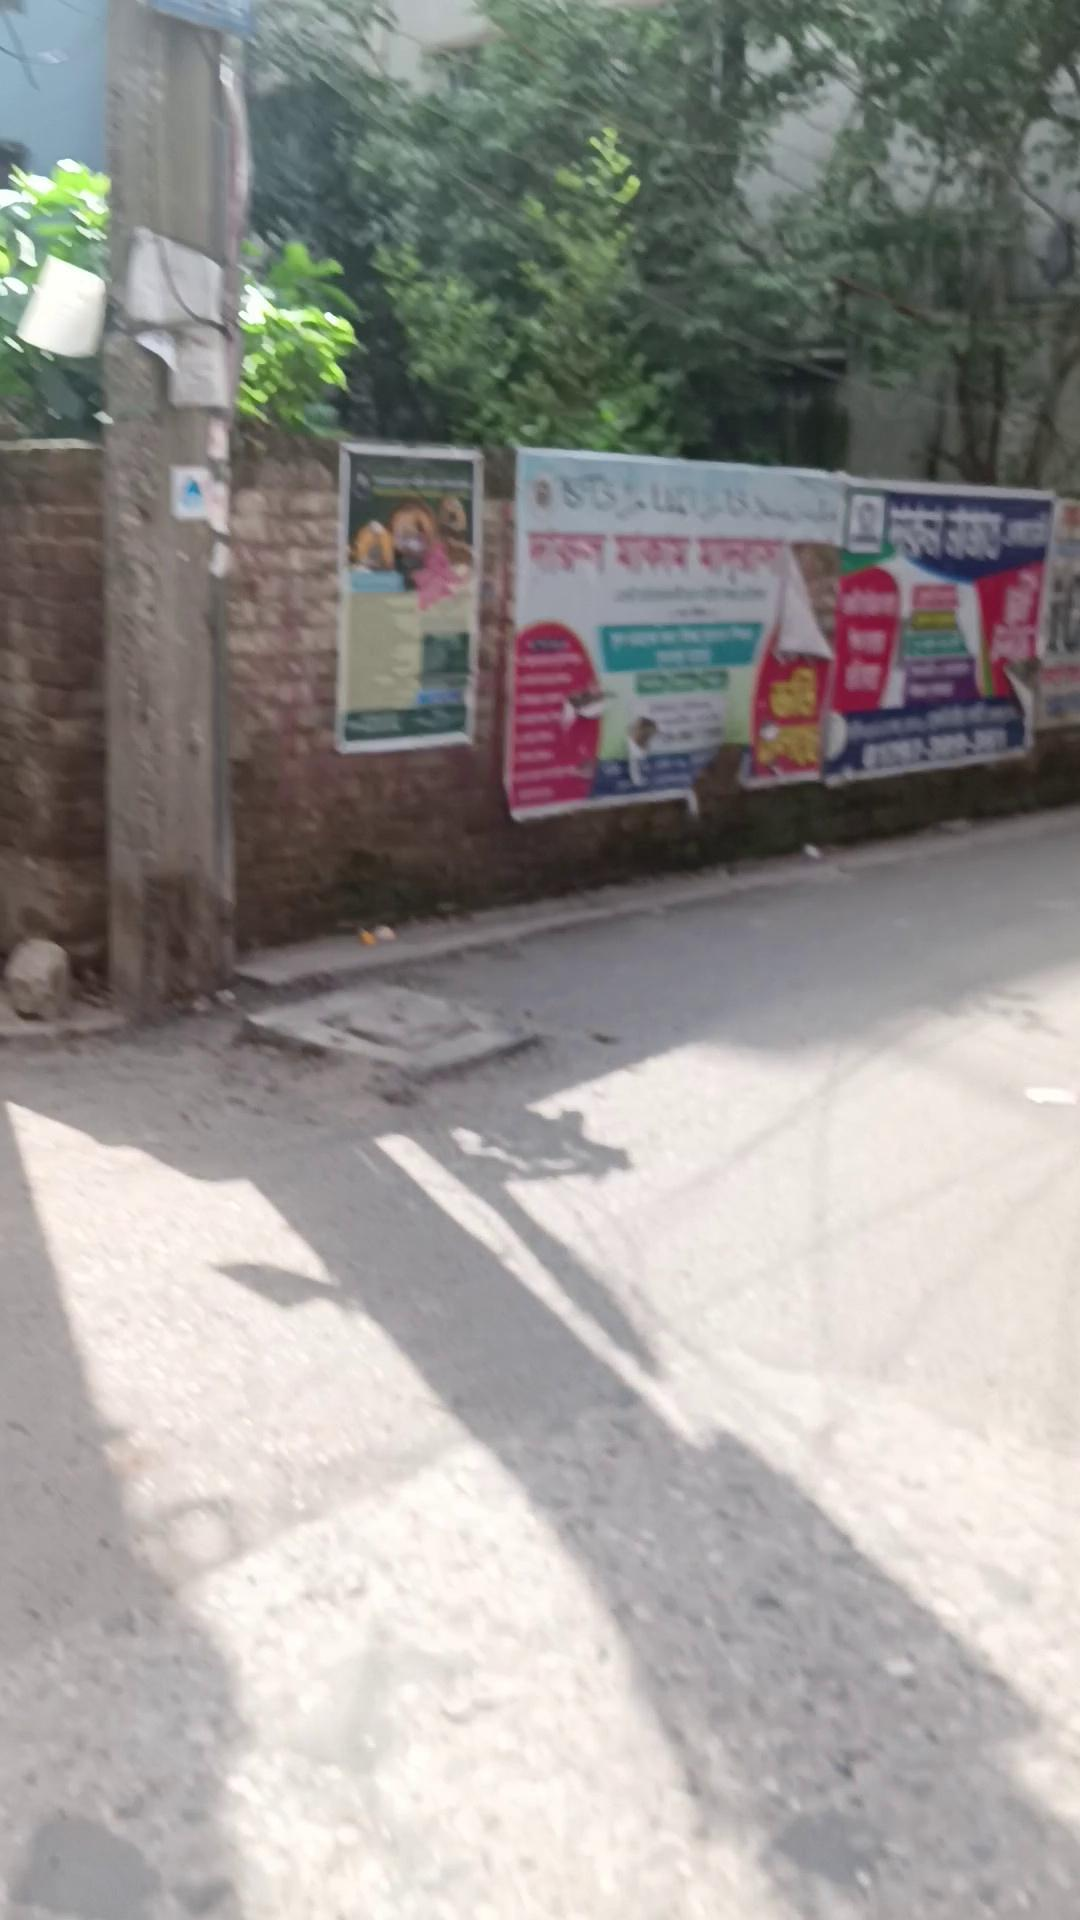Crosswalk: (231, 799, 1071, 993)
Muddy road: (622, 713, 658, 787)
Obstacle: (94, 3, 255, 1021)
Tree: (251, 455, 1080, 960)
